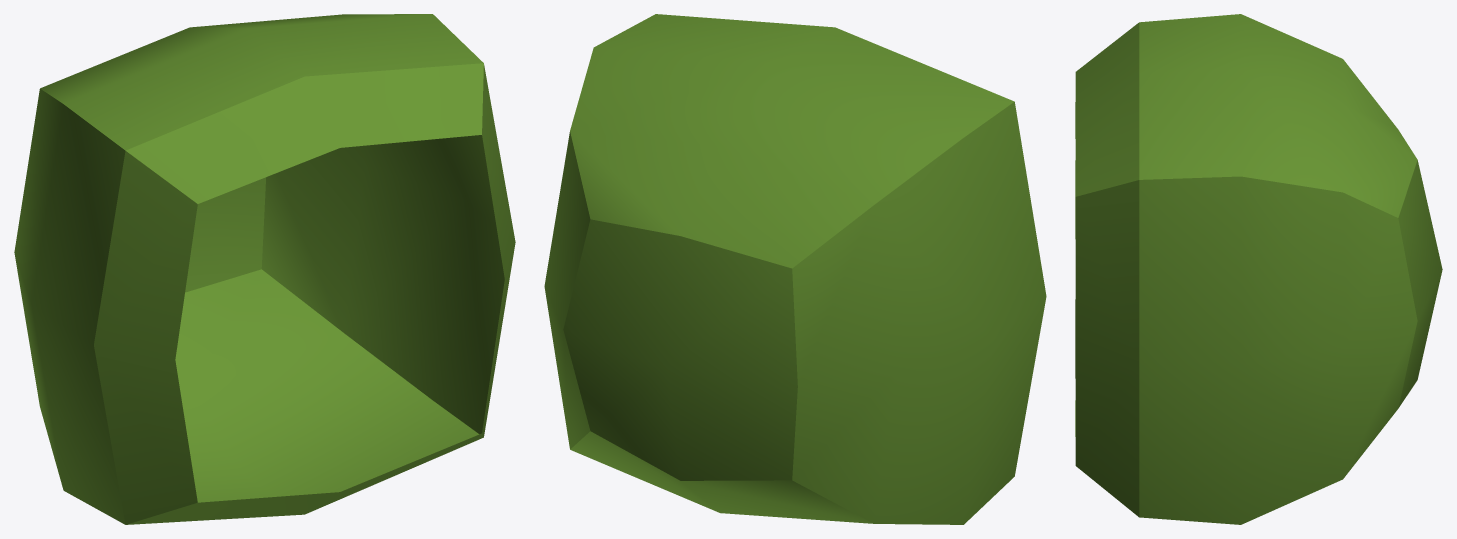
The model's file is Bush 02.FBX.
The picture shows the model from 3 angles, left to right: view 1: azimuth 30°, elevation 25°; view 2: azimuth 150°, elevation 25°; view 3: azimuth 270°, elevation 25°; orthographic projection. The views are drawn at different scales.
Visible parts, largest first — view 1: Bush 02; view 2: Bush 02; view 3: Bush 02.
Part boxes in pixels (x1,y1,x2,y2): Bush 02: (14, 14, 515, 524); Bush 02: (544, 14, 1046, 524); Bush 02: (1075, 14, 1442, 524).
Bounding box in the file's own units: 147 × 146 × 120.
1 material, 1 textured.
